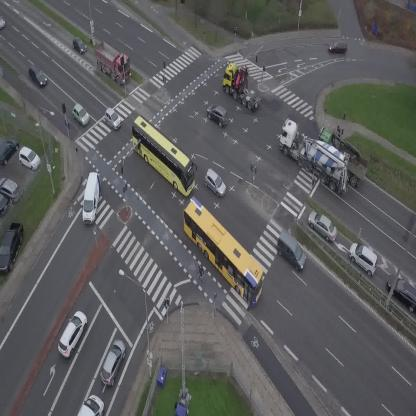bicycle: (195, 264, 206, 286)
bus: (168, 195, 277, 307), (119, 114, 208, 198)
car: (53, 308, 92, 359), (269, 229, 313, 272), (97, 337, 130, 388), (343, 239, 385, 278), (303, 207, 343, 244), (199, 168, 231, 198), (202, 100, 233, 128), (24, 62, 49, 89), (68, 102, 93, 128), (100, 106, 124, 131), (68, 34, 89, 57), (329, 39, 348, 53), (0, 16, 5, 29)
lorry: (267, 116, 365, 198), (315, 121, 376, 190), (214, 56, 274, 113), (86, 36, 140, 87), (79, 171, 105, 225), (77, 395, 104, 416)
